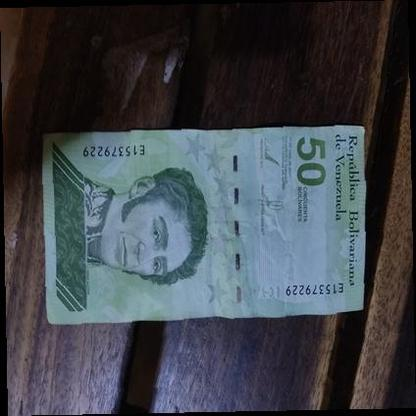fifty-front-vef: (43, 126, 366, 325)
